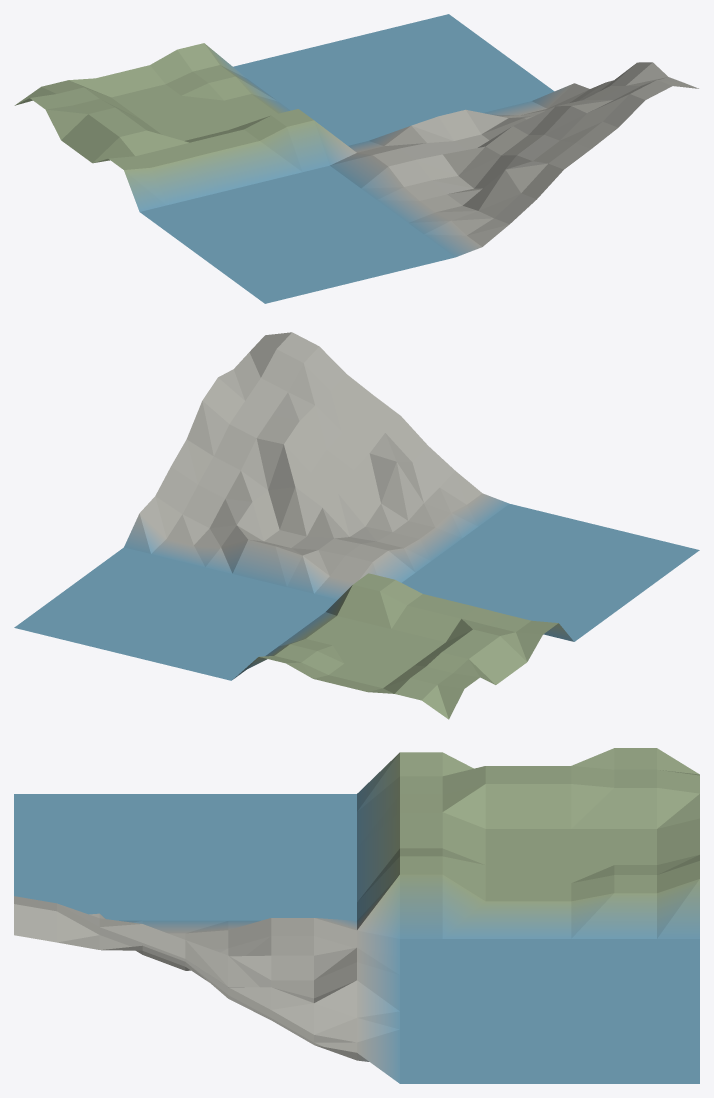
3 renders of one model, top to bottom at view 1: azimuth 30°, elevation 25°; view 2: azimuth 150°, elevation 25°; view 3: azimuth 270°, elevation 25°, orthographic. The views are drawn at different scales.
Size of the model in its own units: 32 by 8.33 by 32.
